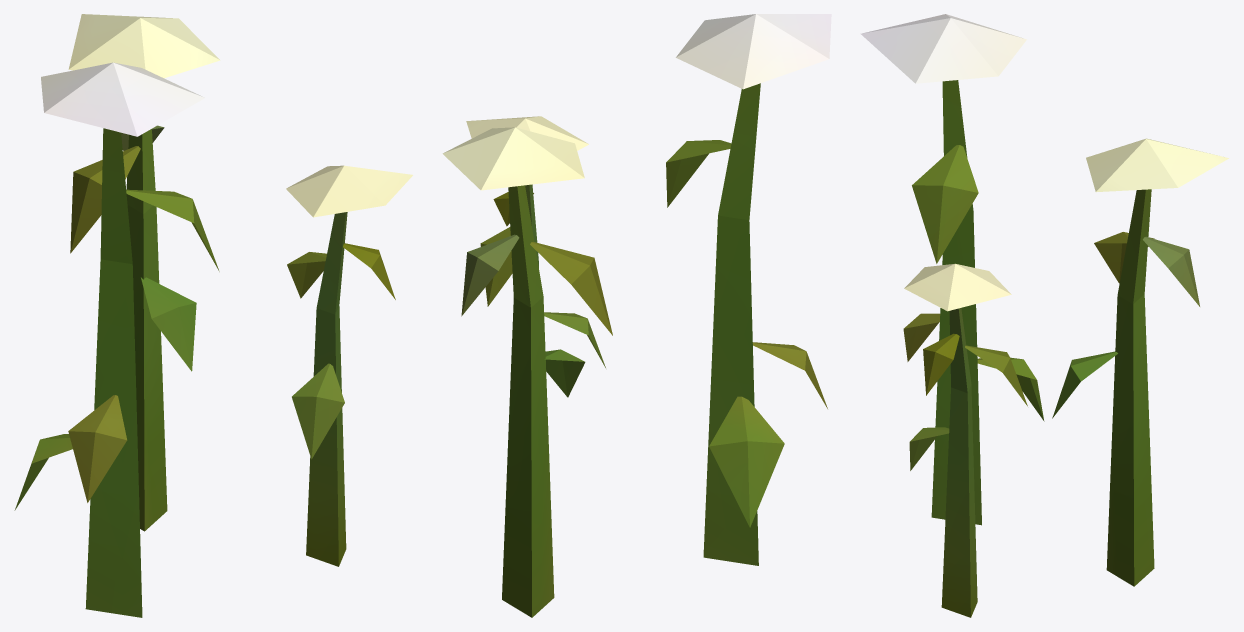
The model's file is mega-pack-cylinder-185.glb.
3 views of the same model, side by side, from view 1: azimuth 30°, elevation 25°; view 2: azimuth 150°, elevation 25°; view 3: azimuth 270°, elevation 25° (orthographic). The views are drawn at different scales.
Parts seen in each view (by area): view 1: Cylinder.185; view 2: Cylinder.185; view 3: Cylinder.185.
Part boxes in pixels (<box>): Cylinder.185: <box>14,14,412,617</box>; Cylinder.185: <box>442,14,831,617</box>; Cylinder.185: <box>860,14,1228,617</box>.
Size of the model in its own units: 0.2217 by 0.3214 by 0.2148.
Materials: 1 (1 with a texture image).
